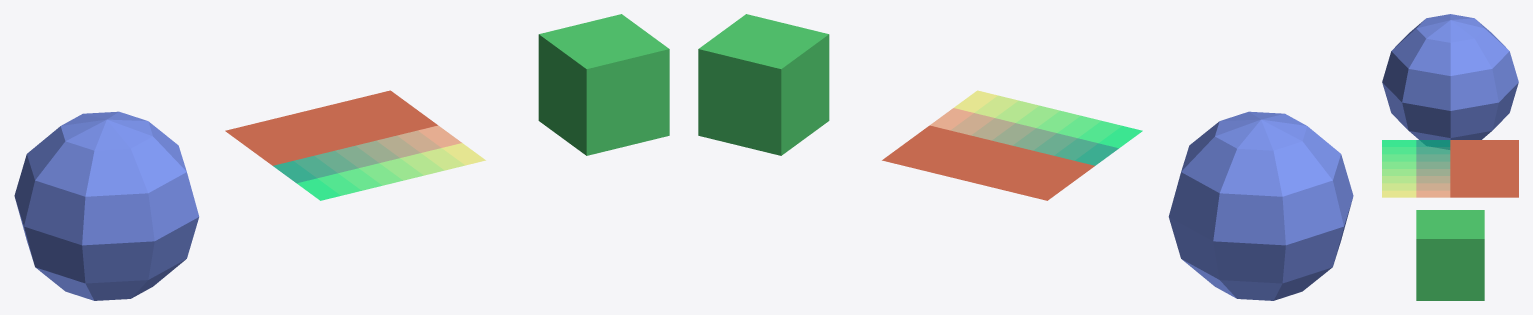
Rendered from maya_linked.fbx.
3 views of the same model, side by side, from view 1: azimuth 30°, elevation 25°; view 2: azimuth 150°, elevation 25°; view 3: azimuth 270°, elevation 25° (orthographic). The views are drawn at different scales.
Parts seen in each view (by area): view 1: ball, plane, cube; view 2: ball, plane, cube; view 3: ball, plane, cube.
Boxes of the visible parts, bbox=[...] form: ball: bbox=[14, 111, 199, 300]; plane: bbox=[225, 90, 485, 200]; cube: bbox=[538, 14, 669, 155]; ball: bbox=[1168, 111, 1353, 300]; plane: bbox=[882, 90, 1142, 200]; cube: bbox=[698, 14, 829, 155]; ball: bbox=[1382, 14, 1518, 149]; plane: bbox=[1382, 140, 1518, 197]; cube: bbox=[1416, 210, 1484, 300].
Size of the model in its own units: 7.5 by 2 by 2.
Materials: 4 (1 with a texture image).
